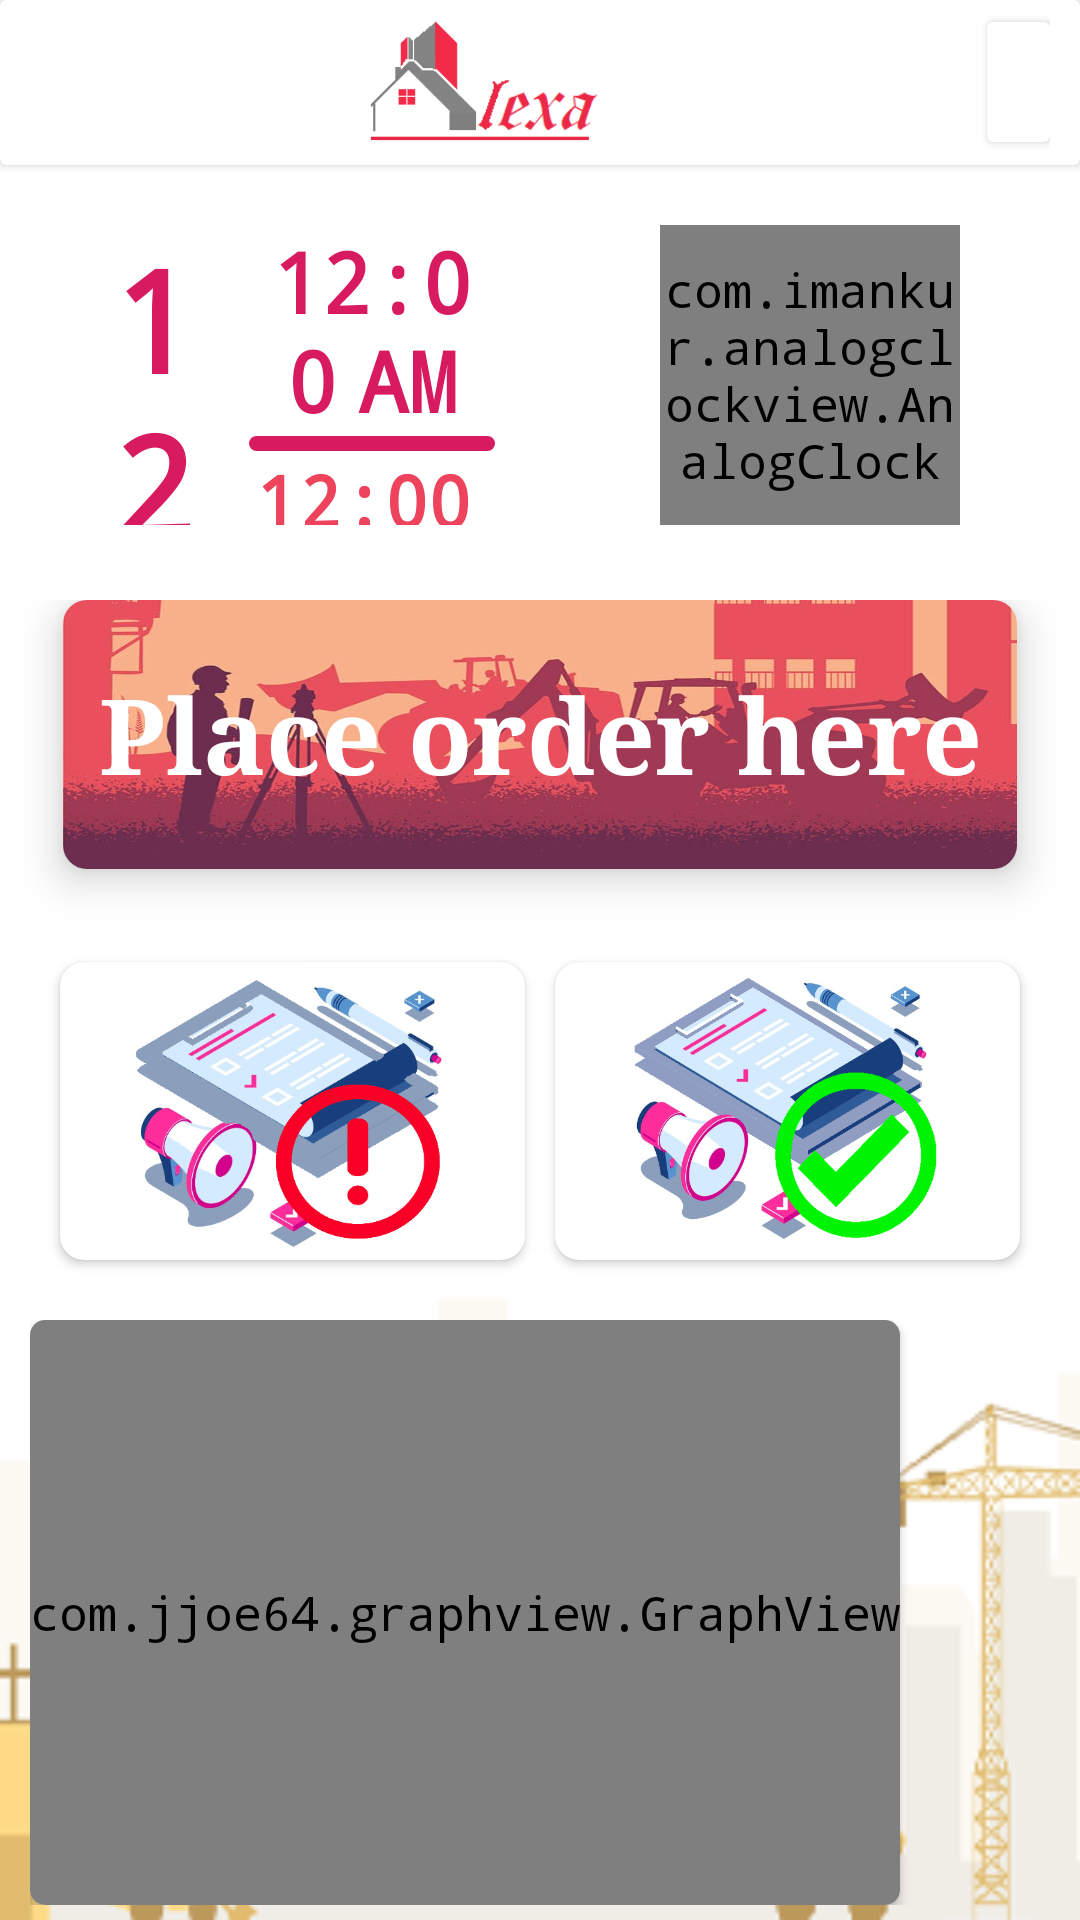

Icon bounding boxes for this 1080px x 1920px phone screenshot, format detection(x1, y1, x2, y2):
pending: detection(136, 980, 442, 1247)
